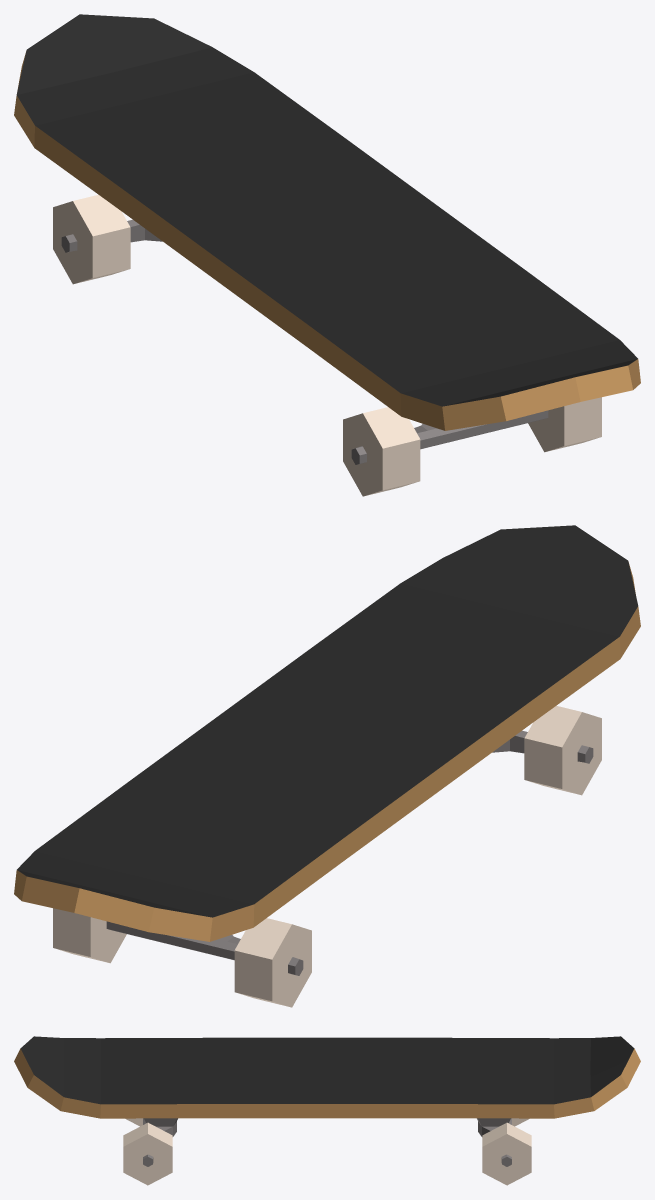
Rendered from sport_skateboard.fbx.
3 views of the same model, one above another, from view 1: azimuth 30°, elevation 25°; view 2: azimuth 150°, elevation 25°; view 3: azimuth 270°, elevation 25° (orthographic). The views are drawn at different scales.
Visible parts, largest first — view 1: sport_skateboard; view 2: sport_skateboard; view 3: sport_skateboard.
Part boxes in pixels (box(x1,y1,x2,y2)): sport_skateboard: box(14, 14, 640, 496); sport_skateboard: box(14, 525, 640, 1007); sport_skateboard: box(14, 1036, 640, 1185).
Bounding box in the file's own units: 53.3 × 36.62 × 200.
